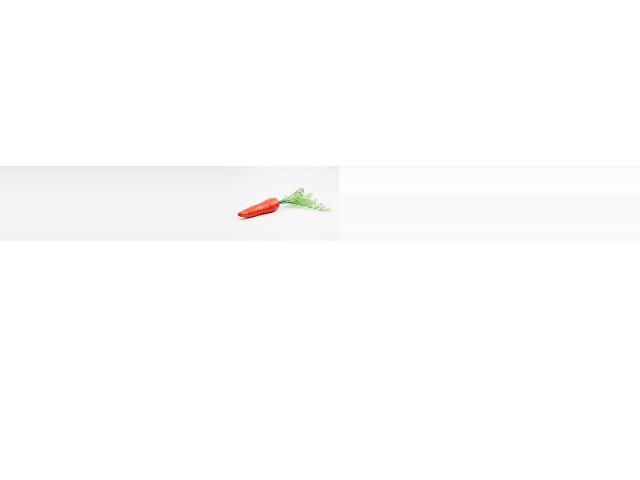carrot: (234, 196, 282, 226)
